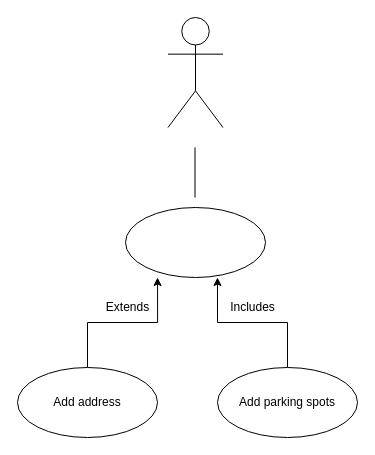
Some shapes in this 375 by 455 pixel diagram are drawn without their labels. The centre of each missing label's shape, as x and y in pixels:
"Add parking lot" belongs at point 195,242.
"Parking Lot Owner" belongs at point 195,72.
